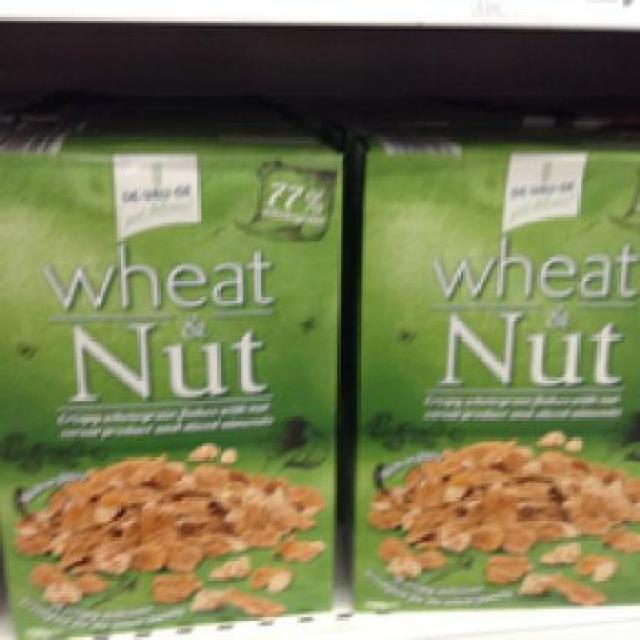Cereal: (0, 132, 343, 638), (348, 128, 638, 606)
